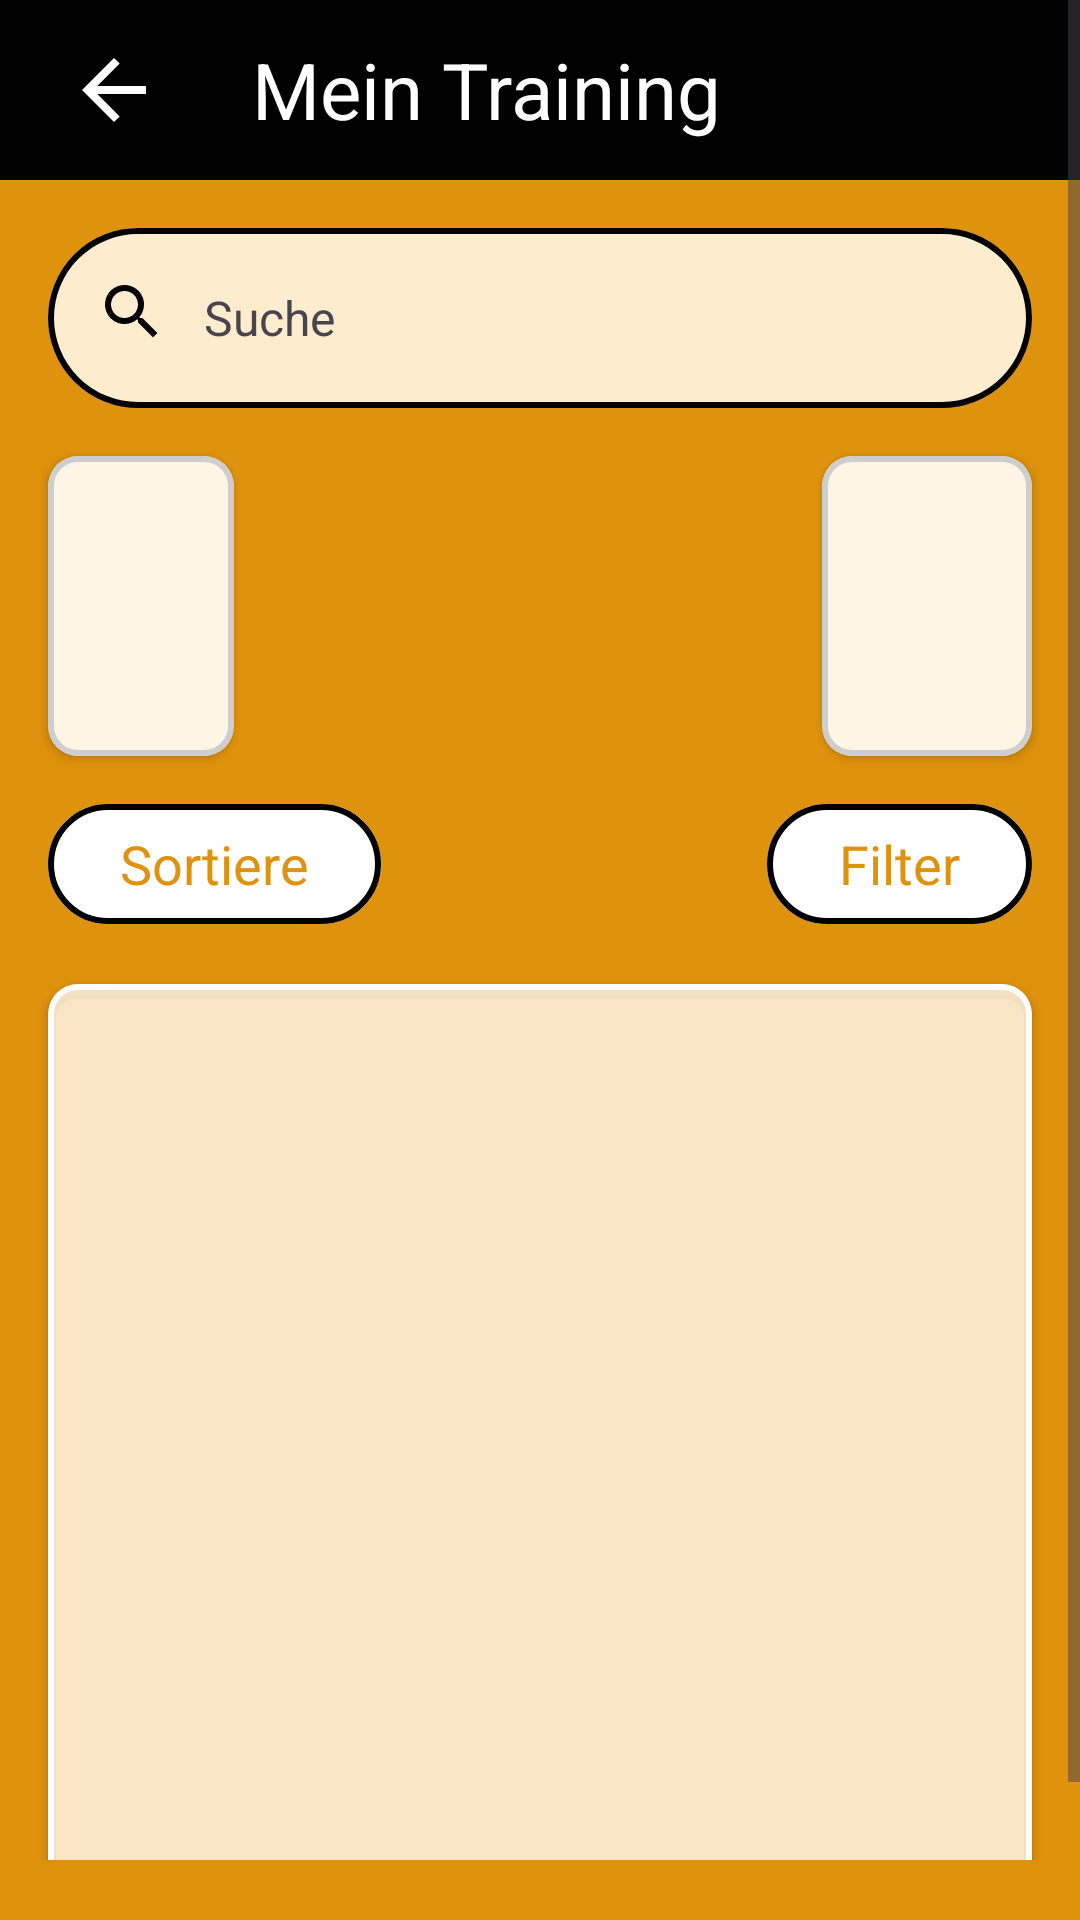

Screen size 1080 x 1920. Icon name, then its center in pixels as point (x, y):
Navigate back: point (114, 90)
